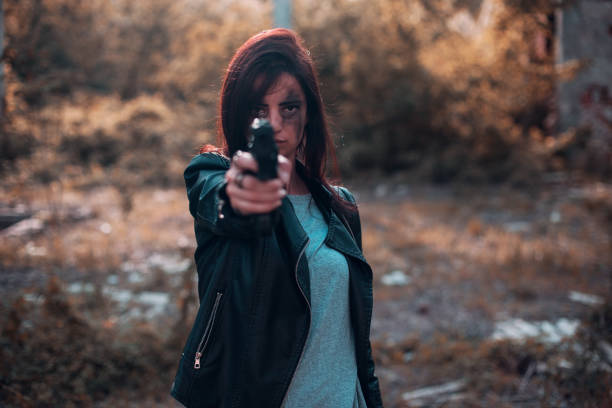gun: (249, 117, 279, 181)
